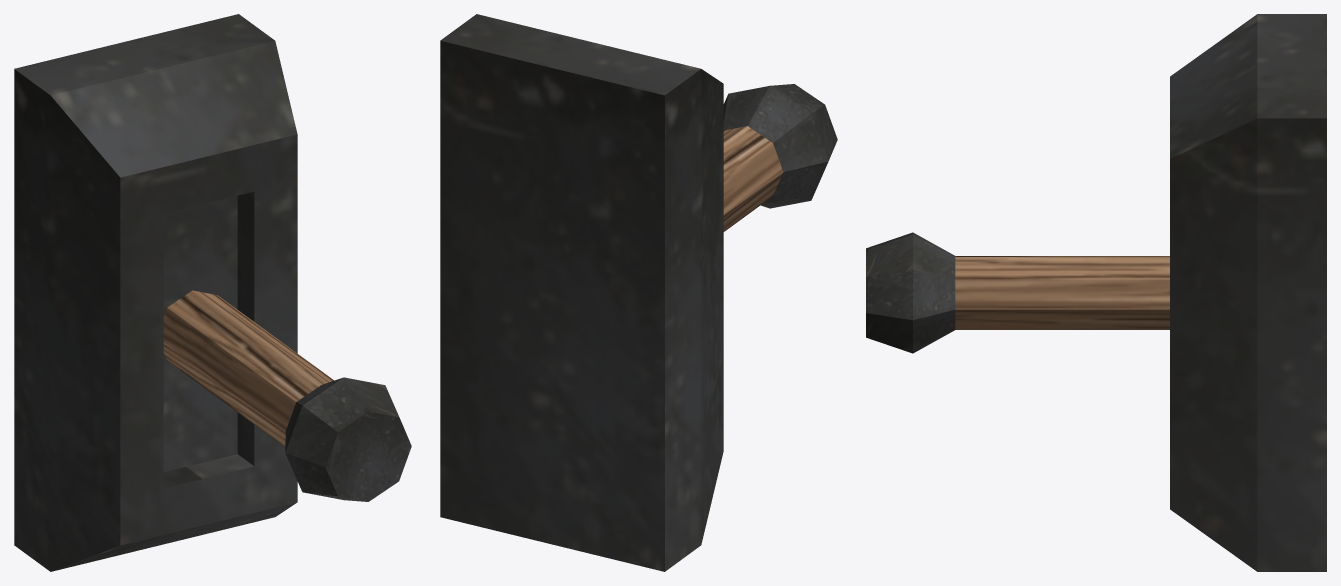
File: LP_Lever.glb
3 views of the same model, side by side, from view 1: azimuth 30°, elevation 25°; view 2: azimuth 150°, elevation 25°; view 3: azimuth 270°, elevation 25° (orthographic). The views are drawn at different scales.
Parts seen in each view (by area): view 1: LP_LeverHousing, LP_LeverHandle; view 2: LP_LeverHousing, LP_LeverHandle; view 3: LP_LeverHousing, LP_LeverHandle.
Boxes of the visible parts, <box> form: LP_LeverHousing: <box>14,14,297,571</box>; LP_LeverHandle: <box>163,290,411,501</box>; LP_LeverHousing: <box>440,14,723,571</box>; LP_LeverHandle: <box>723,84,837,231</box>; LP_LeverHousing: <box>1170,14,1326,571</box>; LP_LeverHandle: <box>866,232,1169,353</box>.
Bounding box in the file's own units: 0.3082 × 0.6247 × 0.5753.
Materials: 2 (2 with a texture image).
